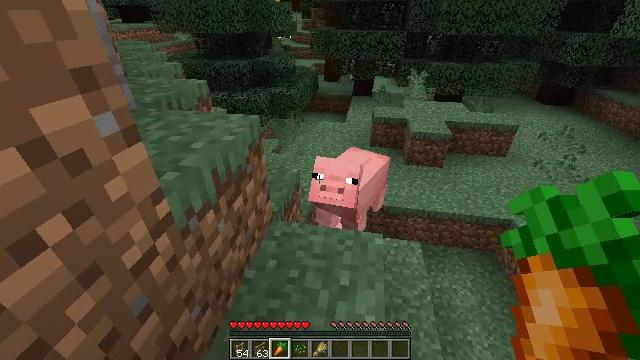pig: (308, 147, 391, 233)
